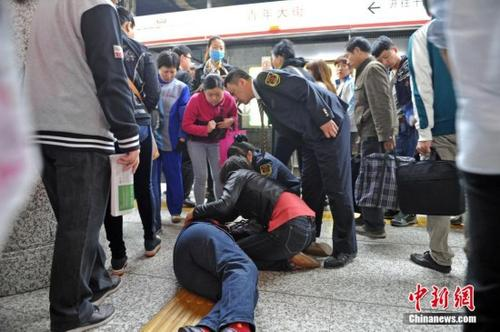10+: (14, 2, 500, 332)
down: (170, 208, 261, 332)
